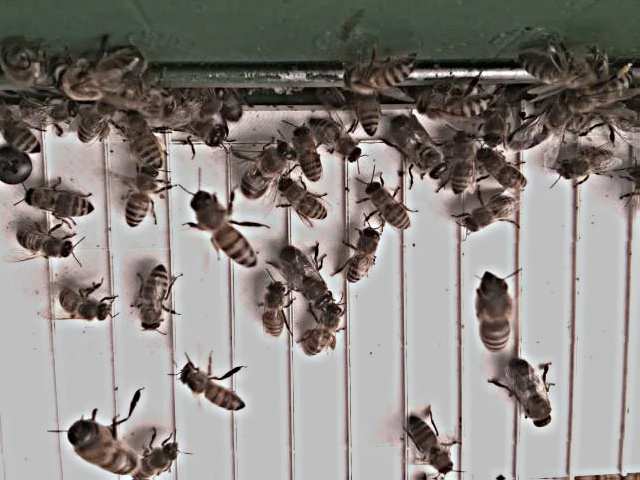Drone: (388, 113, 450, 183), (506, 95, 576, 154), (238, 142, 298, 205), (279, 244, 333, 311), (508, 356, 555, 432)
Worker: (194, 192, 258, 270), (182, 367, 248, 415), (407, 419, 457, 477), (24, 188, 97, 223), (414, 91, 493, 123), (303, 302, 346, 360), (481, 278, 513, 355), (461, 195, 525, 233), (364, 183, 411, 234), (126, 110, 166, 169), (139, 265, 173, 334), (346, 61, 417, 94), (14, 222, 74, 261), (314, 120, 366, 165), (278, 180, 331, 224), (51, 288, 114, 325), (343, 227, 382, 286), (125, 172, 160, 231), (482, 148, 527, 193), (558, 148, 617, 182), (130, 445, 182, 480), (294, 126, 324, 185), (449, 134, 475, 198), (354, 81, 383, 137), (261, 281, 288, 341)
